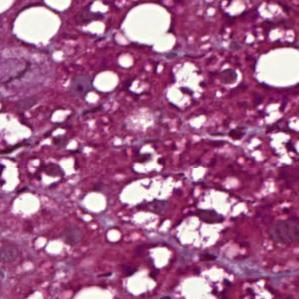ballooning: (116, 172, 252, 253)
